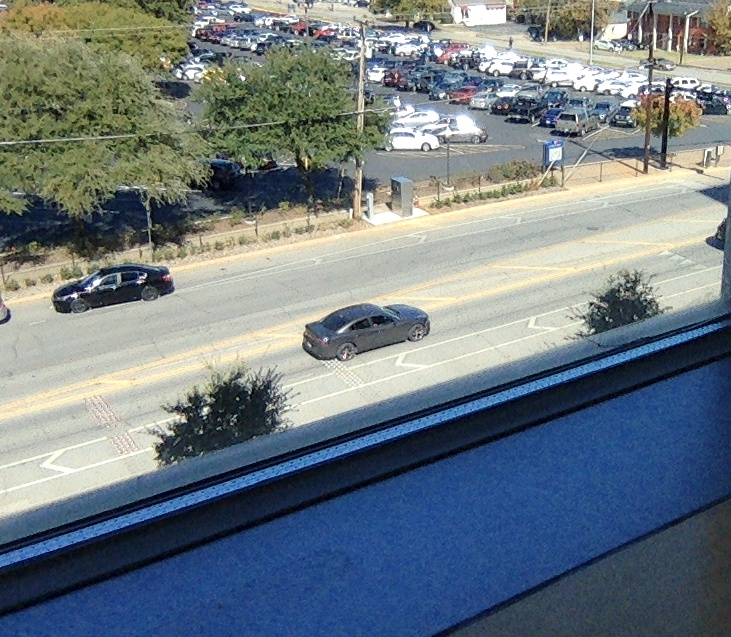car: (300, 300, 431, 364)
